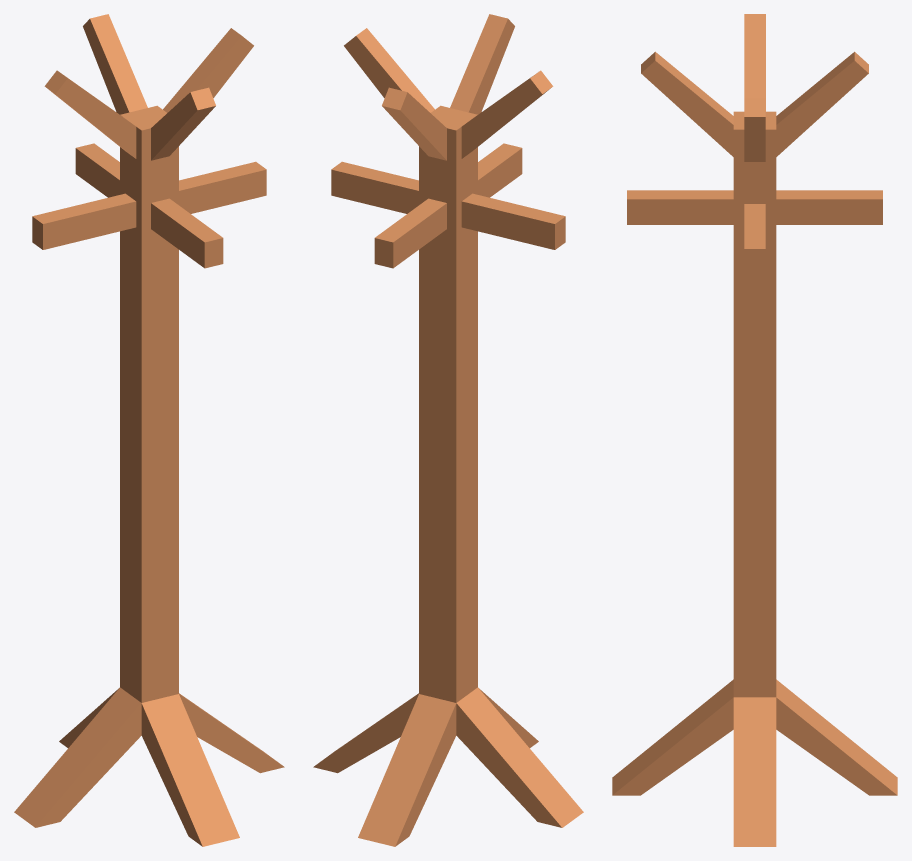
File: CoatRackStanding.obj
3 views of the same model, side by side, from view 1: azimuth 30°, elevation 25°; view 2: azimuth 150°, elevation 25°; view 3: azimuth 270°, elevation 25° (orthographic).
Visible parts, largest first — view 1: Mesh_coatRackStanding; view 2: Mesh_coatRackStanding; view 3: Mesh_coatRackStanding.
Part boxes in pixels (bbox=[...]): Mesh_coatRackStanding: bbox=[14, 14, 284, 846]; Mesh_coatRackStanding: bbox=[313, 14, 583, 846]; Mesh_coatRackStanding: bbox=[612, 14, 897, 846].
Size of the model in its own units: 0.6411 by 1.81 by 0.6411.
